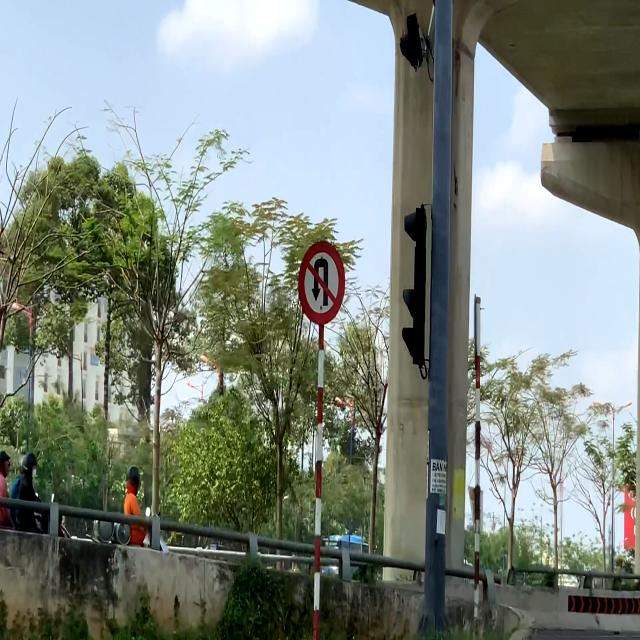P.124a: (298, 238, 348, 327)
